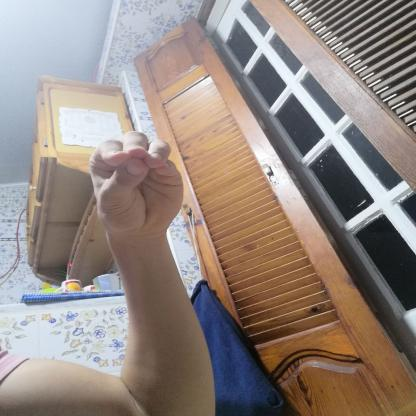HA: (75, 120, 199, 243)
